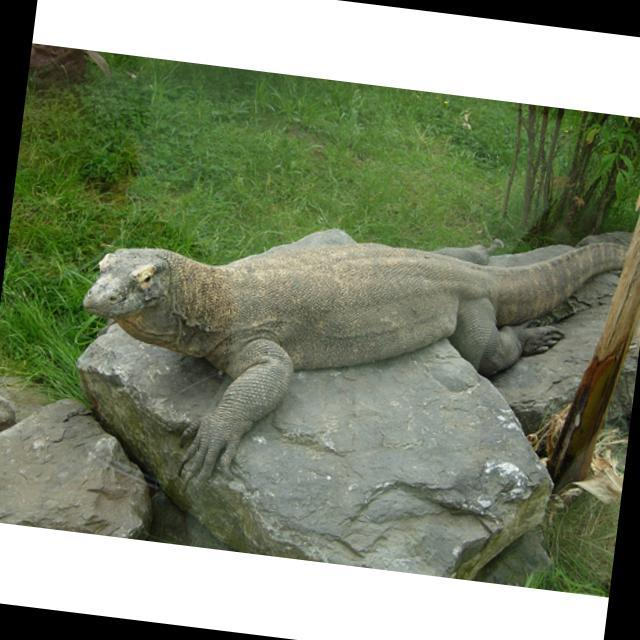KomodoDragon: (61, 177, 633, 540)
